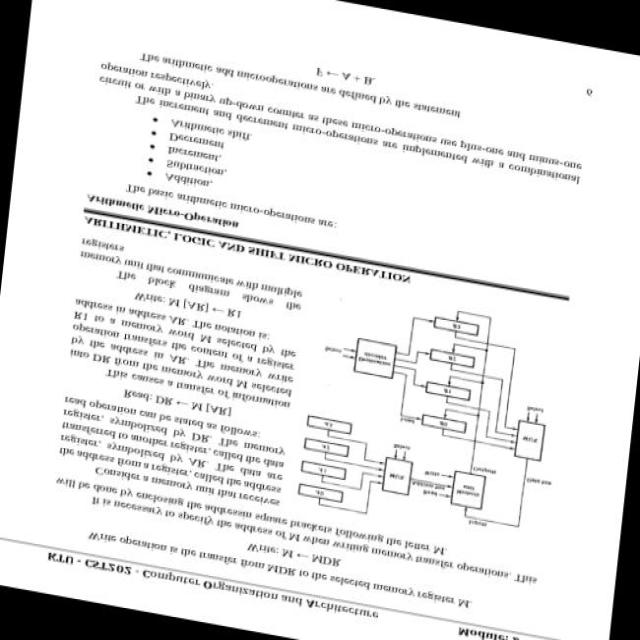Figure Detection - v3 Dataset Version2: (286, 277, 577, 561)
